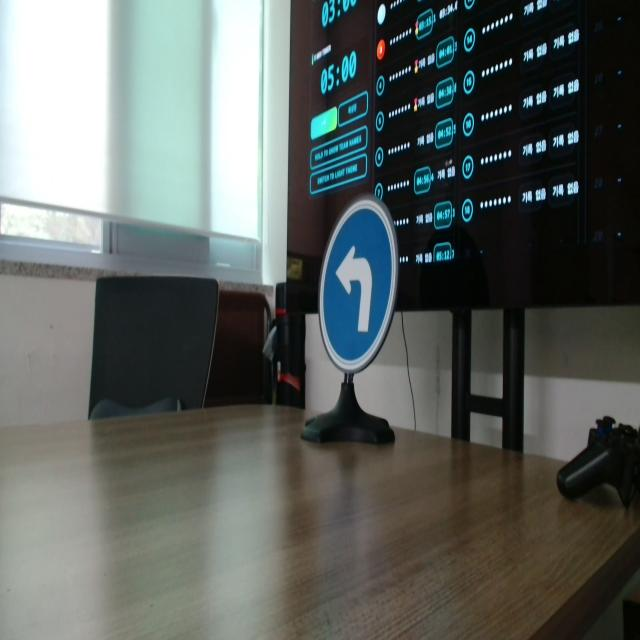left_direction: (311, 189, 408, 390)
